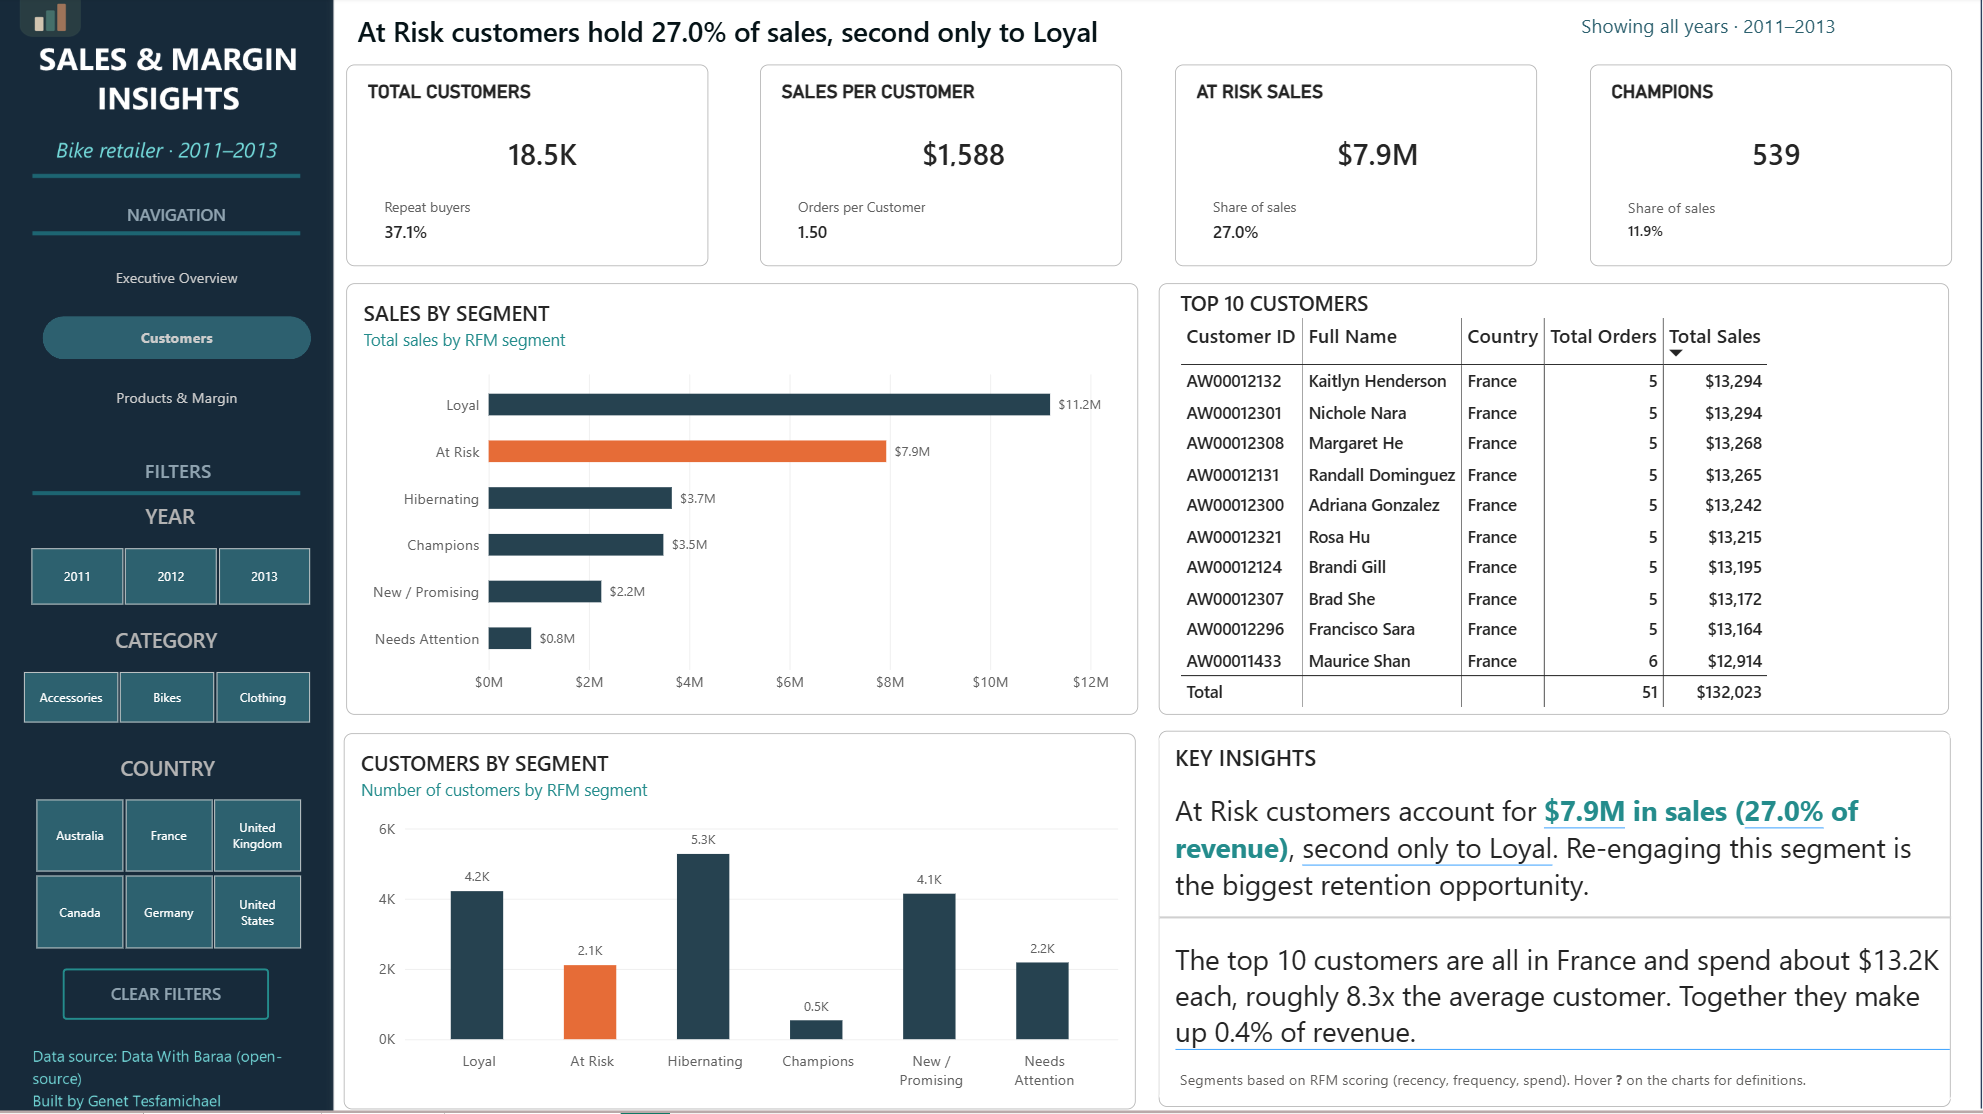

Layout of this report page (visuals, bound fields, positions):
{"tool":"powerbi","page":{"name":"Customers","canvas":[1920,1080],"ordinal":1},"visuals":[{"type":"clusteredBarChart","title":"SALES BY SEGMENT","fields":{"Category":["customer_rfm.rfm_segment"],"Y":["_Measures.Total Sales"]},"box":[334.7,277,766.3,418],"z":0},{"type":"tableEx","title":"TOP 10 CUSTOMERS","fields":{"Values":["dim_customers.customer_number","dim_customers.FullName","dim_customers.country","_Measures.Total Orders","_Measures.Total Sales"]},"box":[1121.4,277,764.6,418],"z":1000},{"type":"clusteredColumnChart","title":"CUSTOMERS BY SEGMENT","fields":{"Category":["customer_rfm.rfm_segment"],"Y":["_Measures.Total Customers"]},"box":[333,712.1,766.5,364.3],"z":2000},{"type":"textbox","box":[1120.9,710.4,766.5,364.3],"z":3000},{"type":"shape","box":[1121.4,711.9,768,356.8],"z":4000},{"type":"slicer","title":"YEAR","fields":{"Values":["DateTable.Year"]},"box":[9.8,489.1,309.7,100.9],"z":5000},{"type":"pageNavigator","box":[40.6,250.9,260,160],"z":6000},{"type":"slicer","title":"CATEGORY","fields":{"Values":["dim_products.category"]},"box":[2.8,608.2,316.7,95.3],"z":7000},{"type":"textbox","box":[41.8,435.7,260,40],"z":8000},{"type":"slicer","title":"COUNTRY","fields":{"Values":["dim_customers.Country"]},"box":[14,731.6,295.7,190.6],"z":9000},{"type":"textbox","box":[41.6,199.8,258.8,28.8],"z":10000},{"type":"textbox","box":[1141.8,1038.2,728.9,39.1],"z":11000},{"type":"cardVisual","title":"TOTAL CUSTOMERS","fields":{"Data":["_Measures.Customers Display"]},"box":[334.6,65,350,195],"z":12000},{"type":"cardVisual","title":"SALES PER CUSTOMER","fields":{"Data":["_Measures..   Sales per Customer Display"]},"box":[736.1,65,350,195],"z":13000},{"type":"cardVisual","title":"AT RISK SALES","fields":{"Data":["_Measures.At Risk Sales Text"]},"box":[1137.5,65,350,195],"z":14000},{"type":"cardVisual","title":"CHAMPIONS","fields":{"Data":["_Measures.Champions Customers"]},"box":[1539,65,350,195],"z":15000},{"type":"actionButton","box":[1401.5,3,503,50],"z":16000},{"type":"actionButton","box":[334.4,3,1100.8,60.5],"z":17000},{"type":"actionButton","box":[60.7,939.8,200,50],"z":18000}]}

Visuals, with their boxes in screenshot pixels (x1, y1, x2, y2), scaled from the page's 1920x1080 canvas onto the 1983x1114 screenshot:
"SALES BY SEGMENT" clusteredBarChart: [x1=346, y1=286, x2=1137, y2=717]
"TOP 10 CUSTOMERS" tableEx: [x1=1158, y1=286, x2=1948, y2=717]
"CUSTOMERS BY SEGMENT" clusteredColumnChart: [x1=344, y1=735, x2=1136, y2=1110]
textbox: [x1=1158, y1=733, x2=1949, y2=1109]
shape: [x1=1158, y1=734, x2=1951, y2=1102]
"YEAR" slicer: [x1=10, y1=504, x2=330, y2=609]
pageNavigator: [x1=42, y1=259, x2=310, y2=424]
"CATEGORY" slicer: [x1=3, y1=627, x2=330, y2=726]
textbox: [x1=43, y1=449, x2=312, y2=491]
"COUNTRY" slicer: [x1=14, y1=755, x2=320, y2=951]
textbox: [x1=43, y1=206, x2=310, y2=236]
textbox: [x1=1179, y1=1071, x2=1932, y2=1111]
"TOTAL CUSTOMERS" cardVisual: [x1=346, y1=67, x2=707, y2=268]
"SALES PER CUSTOMER" cardVisual: [x1=760, y1=67, x2=1122, y2=268]
"AT RISK SALES" cardVisual: [x1=1175, y1=67, x2=1536, y2=268]
"CHAMPIONS" cardVisual: [x1=1589, y1=67, x2=1951, y2=268]
actionButton: [x1=1447, y1=3, x2=1967, y2=55]
actionButton: [x1=345, y1=3, x2=1482, y2=65]
actionButton: [x1=63, y1=969, x2=269, y2=1021]
